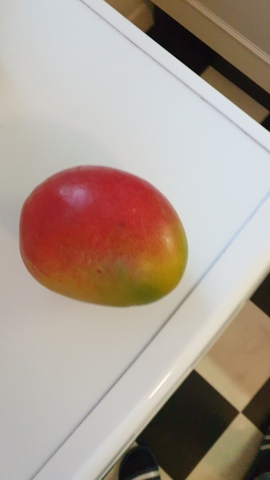Mango: (22, 167, 186, 307)
